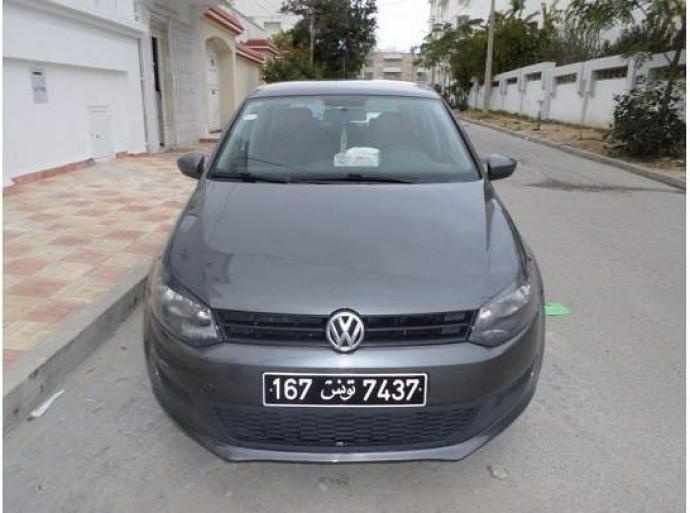LP: (260, 370, 430, 407)
